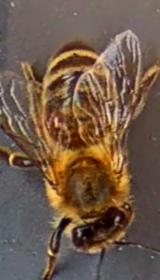varroa_mite: (39, 102, 78, 146)
